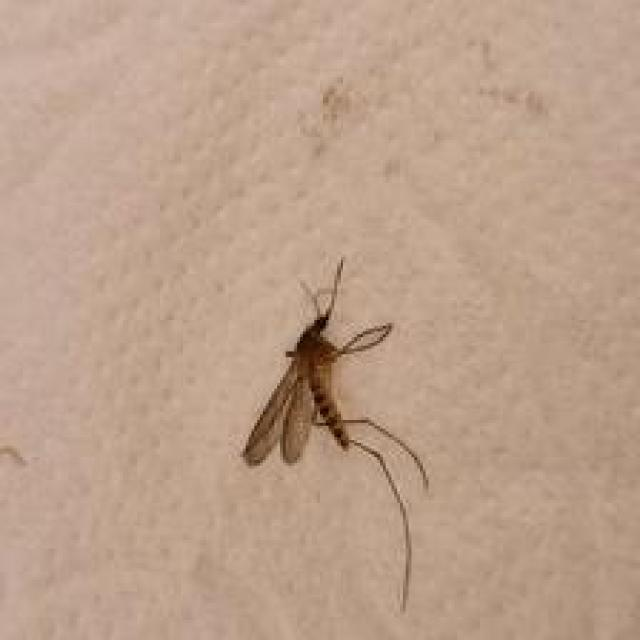Culex: (239, 256, 430, 613)
